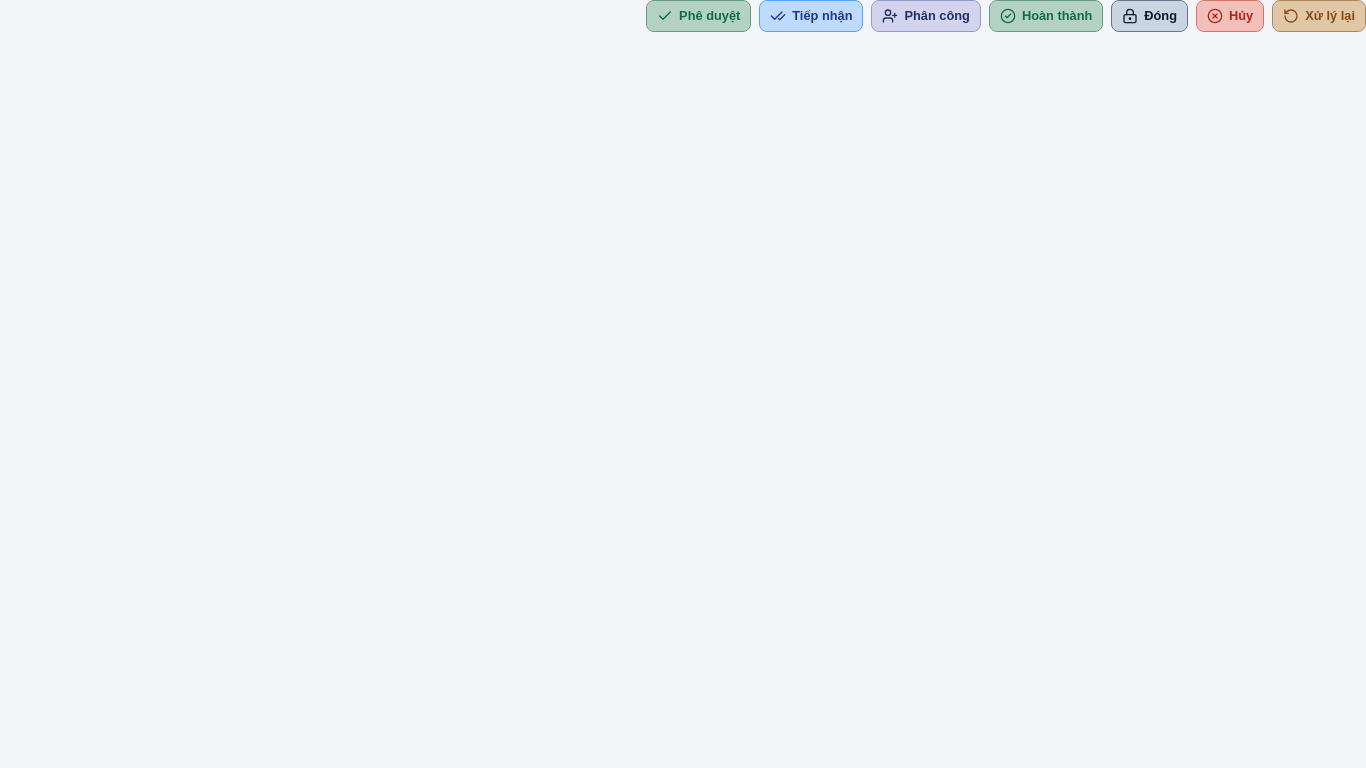
confirms Đóng using its original endpoint and refreshes detail
This screenshot has width=1366, height=768.
Click the button "Đóng".
click(1150, 16)  # box x1=1111 y1=0 x2=1188 y2=32
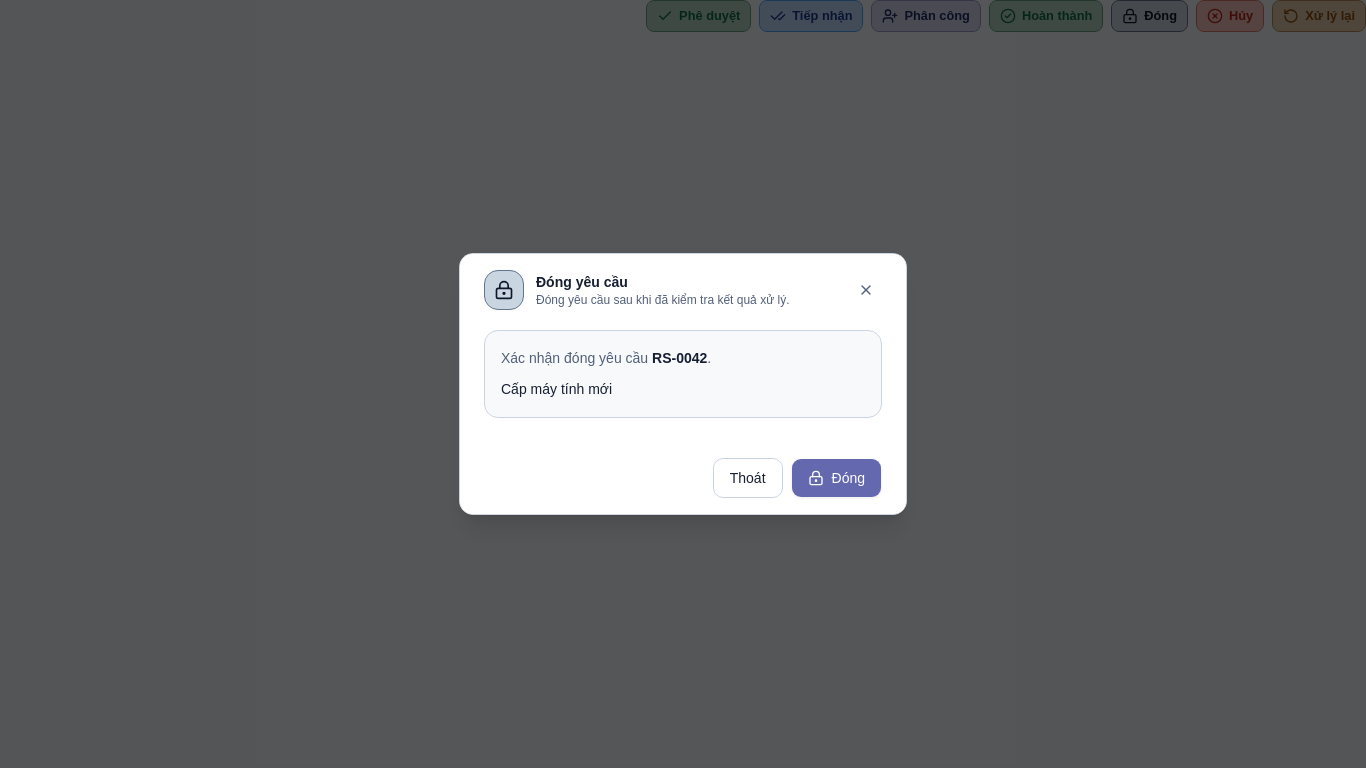
Click the button "Đóng".
click(836, 478)  # box x1=790 y1=458 x2=882 y2=498
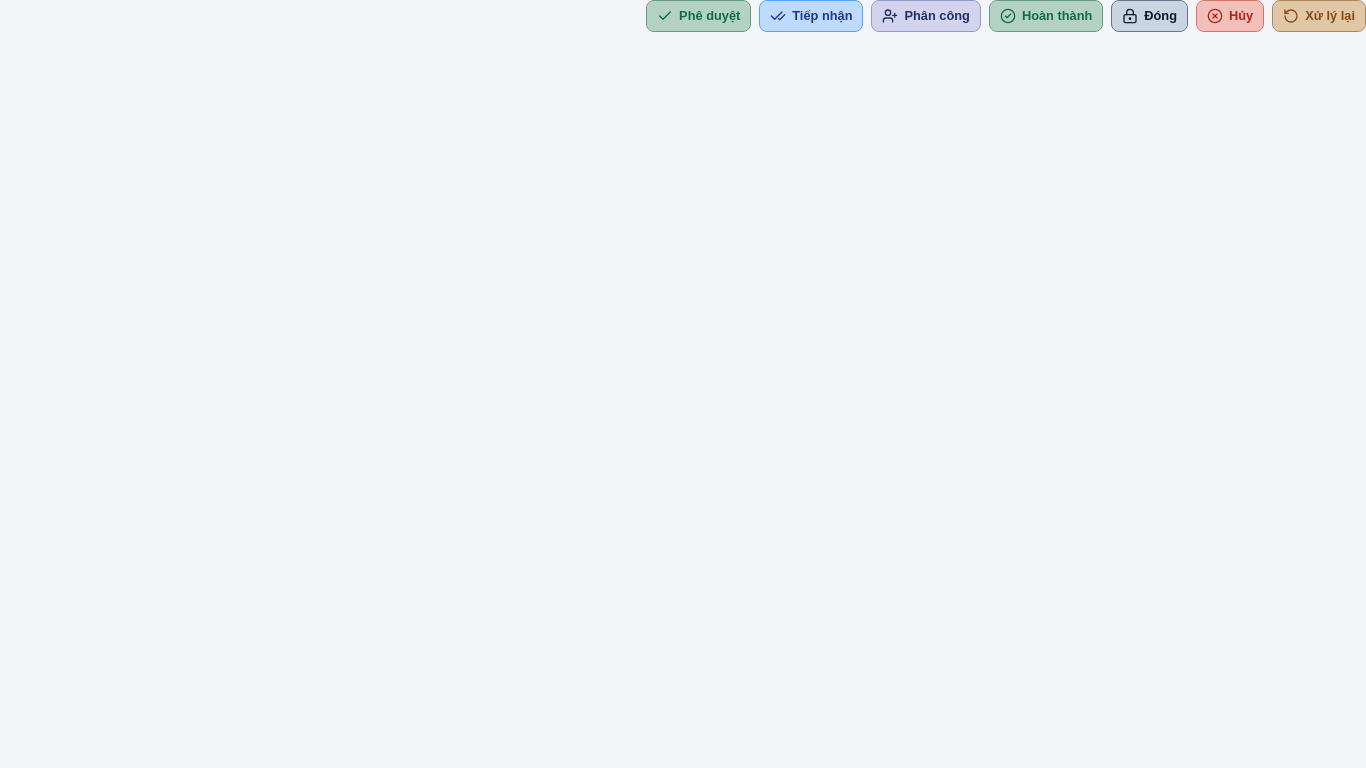
expect the dialog is gone: met
